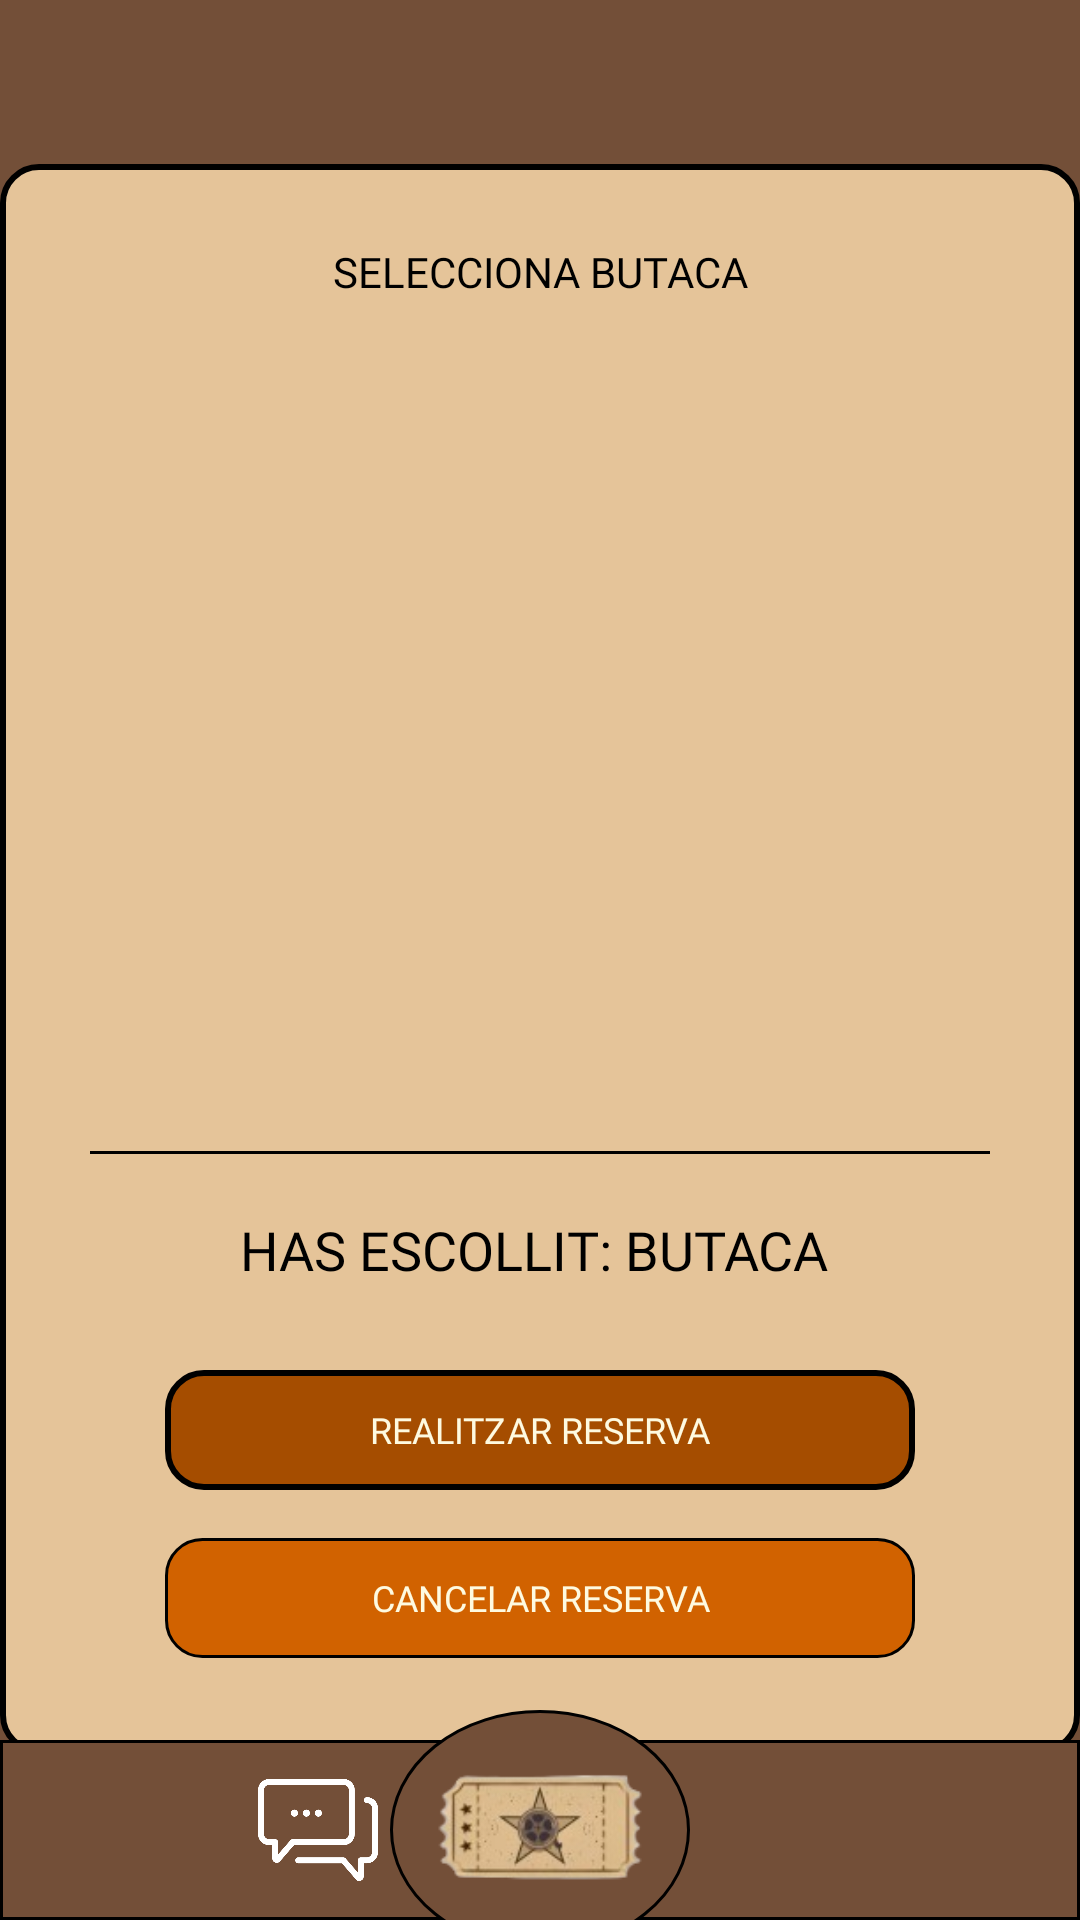

Where icons sit on this 1080*1920 app screen, as box=[x1, y1, x2, y2]:
chat: box=[258, 1779, 378, 1881]
